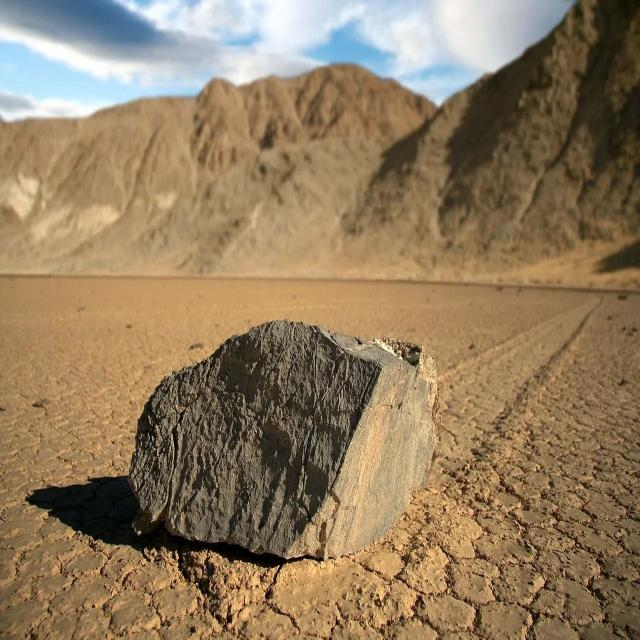stone: (128, 320, 438, 558)
white-sand: (0, 286, 640, 639), (0, 280, 398, 588)
